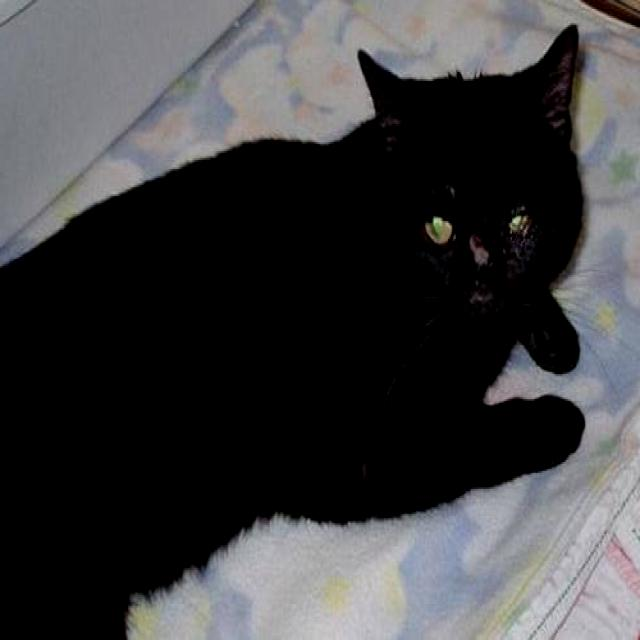Kucing: (0, 4, 599, 629)
